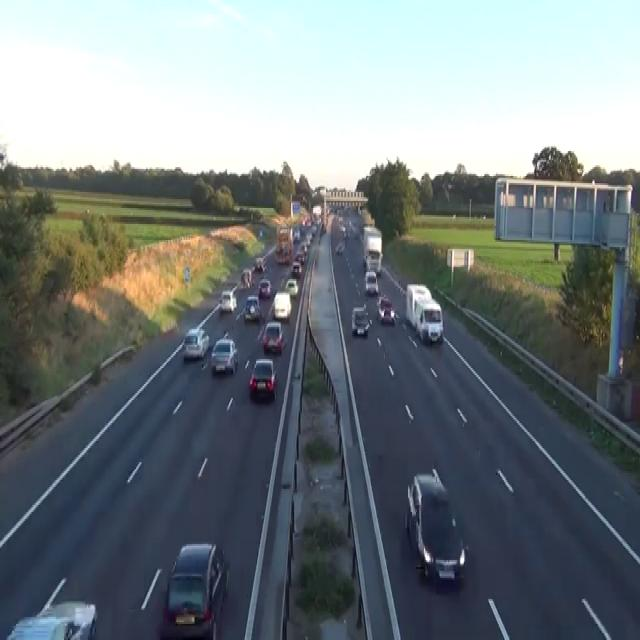Car: (280, 487, 366, 638), (404, 468, 467, 583), (159, 540, 228, 638), (6, 576, 97, 638), (40, 599, 97, 638), (6, 614, 69, 638), (248, 357, 277, 400), (405, 283, 431, 327), (210, 336, 238, 373), (183, 327, 209, 359), (262, 322, 285, 354), (351, 304, 370, 336), (376, 295, 395, 324), (273, 290, 291, 320), (243, 295, 261, 322), (363, 249, 382, 274), (406, 283, 431, 302), (218, 290, 236, 313), (364, 270, 378, 295), (379, 306, 395, 324), (258, 277, 271, 299), (284, 277, 298, 297), (295, 242, 307, 263), (241, 268, 253, 288), (291, 260, 301, 278), (349, 220, 359, 238), (255, 256, 266, 272), (335, 240, 345, 254), (295, 251, 305, 265), (259, 228, 269, 238), (305, 233, 311, 245), (320, 222, 326, 233), (340, 224, 346, 235), (232, 245, 238, 256), (342, 226, 348, 236), (311, 226, 316, 234), (259, 230, 262, 237)
Truck: (405, 283, 443, 343), (362, 226, 382, 274), (275, 226, 293, 263)
